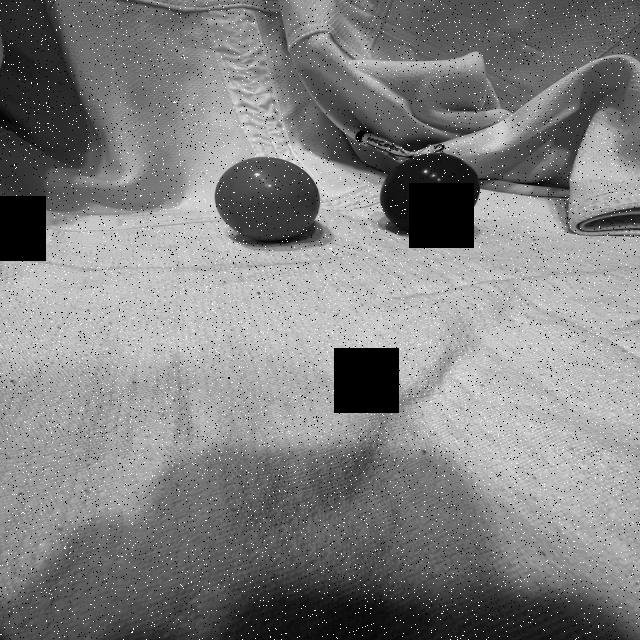ball: (210, 154, 324, 243), (379, 150, 482, 234)
